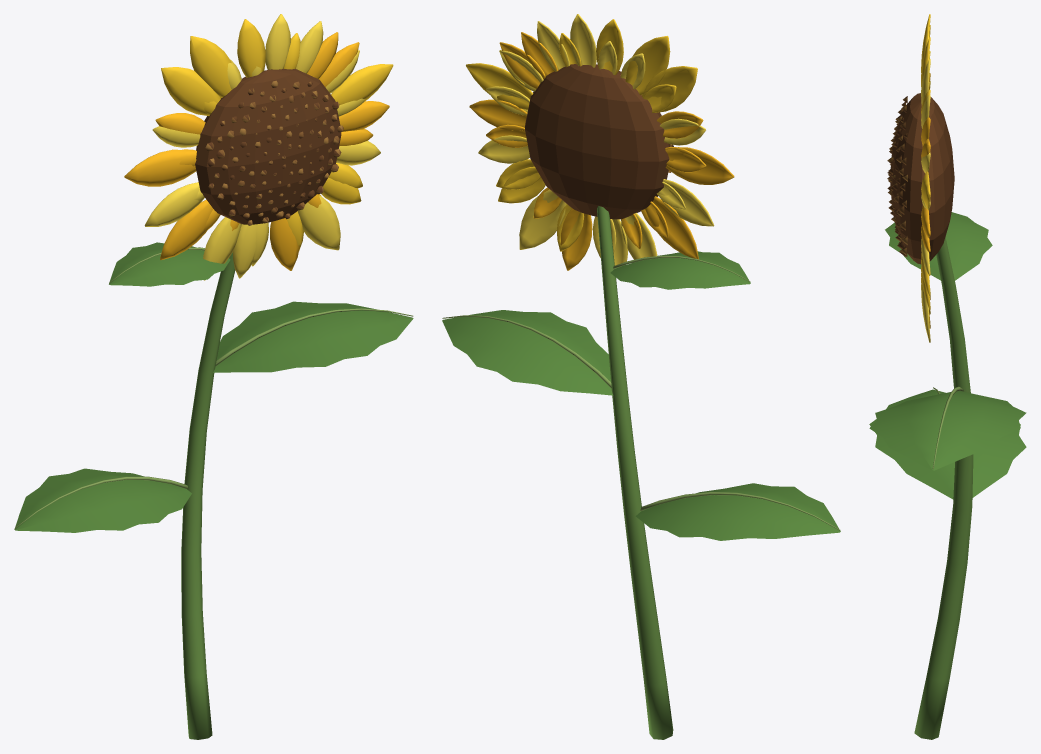
File: sunflower-v2-bloom-0-0.glb
3 renders of one model, left to right at view 1: azimuth 30°, elevation 25°; view 2: azimuth 150°, elevation 25°; view 3: azimuth 270°, elevation 25°, orthographic. The views are drawn at different scales.
Visible parts, largest first — view 1: Curved tapered stem; view 2: Curved tapered stem; view 3: Curved tapered stem.
Boxes of the visible parts, x1,y1,x2,y2 form: Curved tapered stem: (14,14,413,739); Curved tapered stem: (442,14,840,739); Curved tapered stem: (869,14,1026,739).
Bounding box in the file's own units: 0.3333 × 0.5648 × 0.1116.
